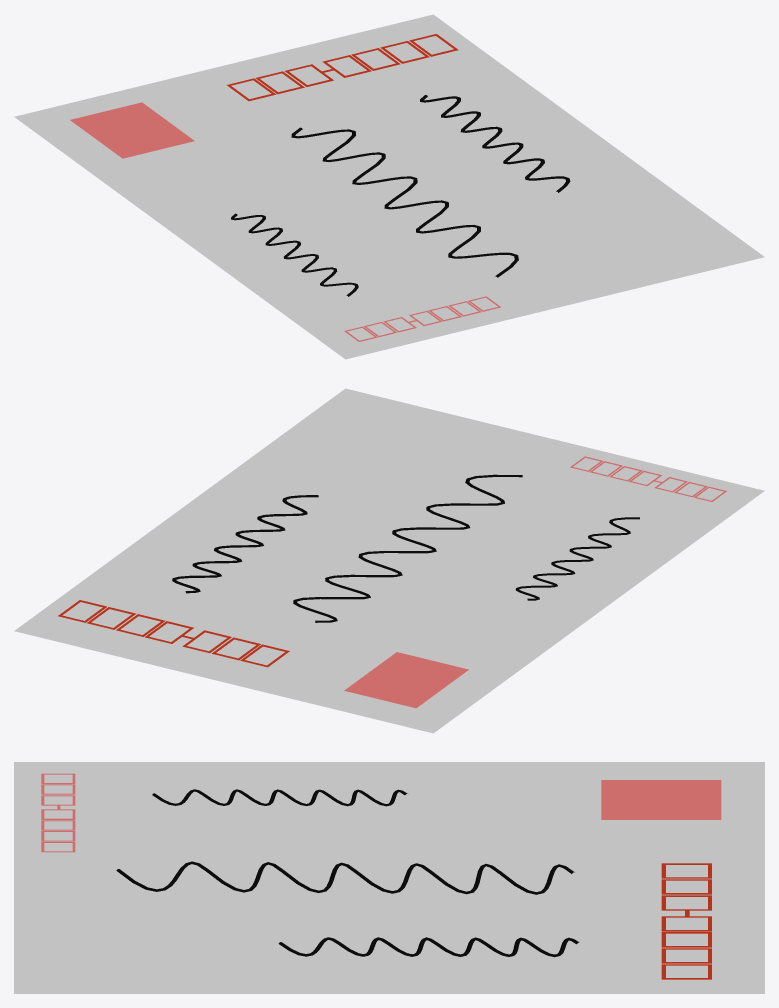
Rendered from Hagaki_ura_after.fbx.
3 renders of one model, top to bottom at view 1: azimuth 30°, elevation 25°; view 2: azimuth 150°, elevation 25°; view 3: azimuth 270°, elevation 25°, orthographic. The views are drawn at different scales.
Parts seen in each view (by area): view 1: 平面; view 2: 平面; view 3: 平面.
Part boxes in pixels (box(x1,y1,x2,y2)): 平面: box(14, 14, 764, 359); 平面: box(14, 388, 764, 733); 平面: box(14, 762, 764, 993).
Size of the model in its own units: 200 by 1.45 by 274.
